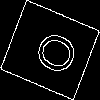O: (25, 24, 80, 78)
